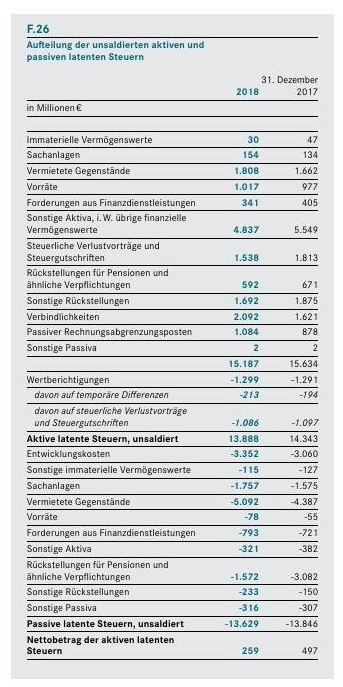table: (0, 0, 343, 687)
